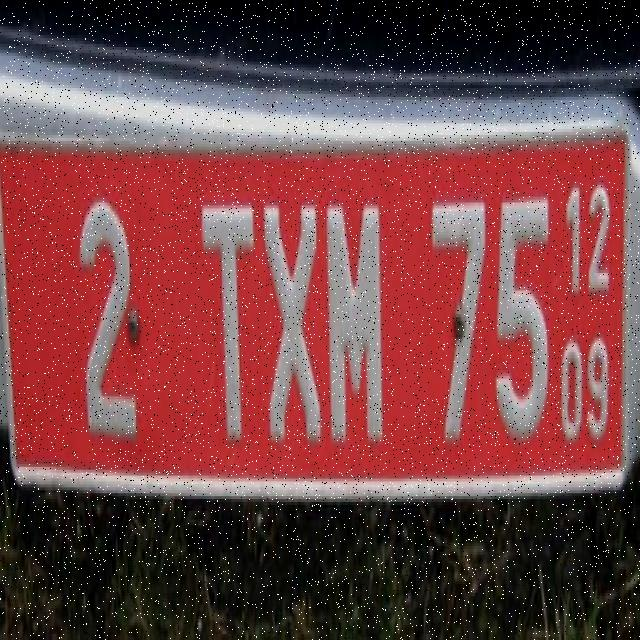licenseplate: (0, 121, 630, 486)
